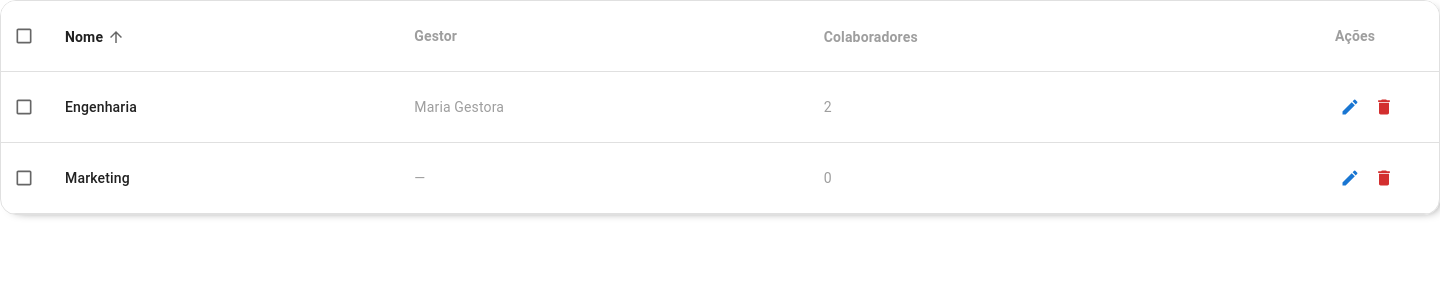
Test case: DepartmentsList › select all checkbox selects all rows
Click the checkbox named "Selecionar todos": x=24, y=36 [14,26,34,46]
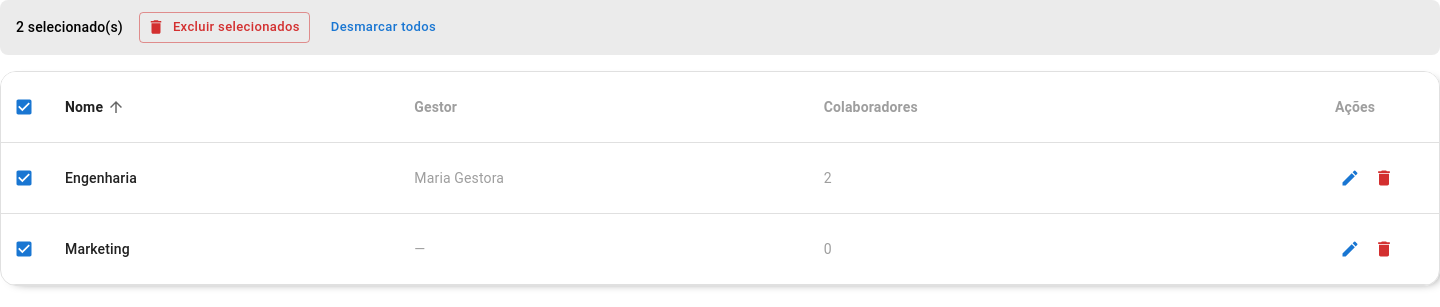
Check: the text "2 selecionado(s)" is shown, box [16,17,123,37]
